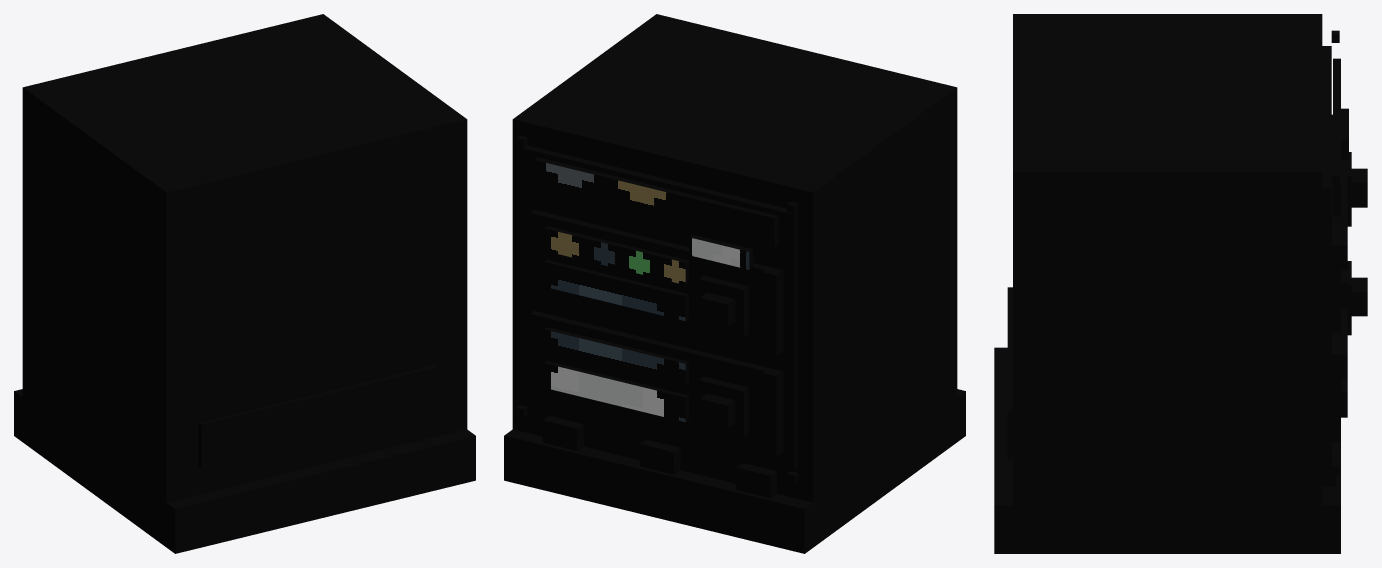
Rendered from lab_distribution_panel.obj.
3 renders of one model, left to right at view 1: azimuth 30°, elevation 25°; view 2: azimuth 150°, elevation 25°; view 3: azimuth 270°, elevation 25°, orthographic. The views are drawn at different scales.
Size of the model in its own units: 0.7753 by 0.875 by 0.7753.
